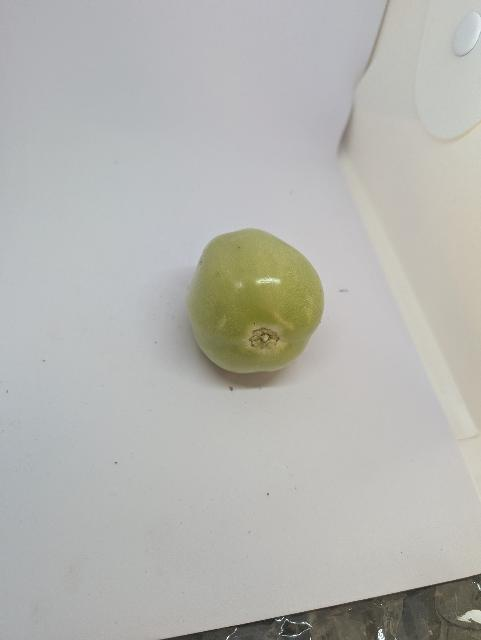green: (185, 227, 327, 375)
